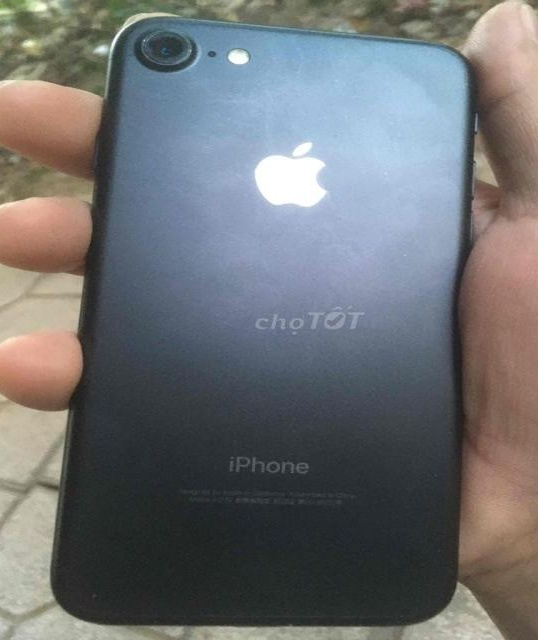scratch: (135, 25, 197, 73)
